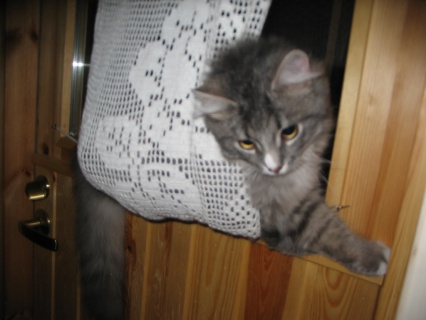Cat: (70, 33, 392, 319)
